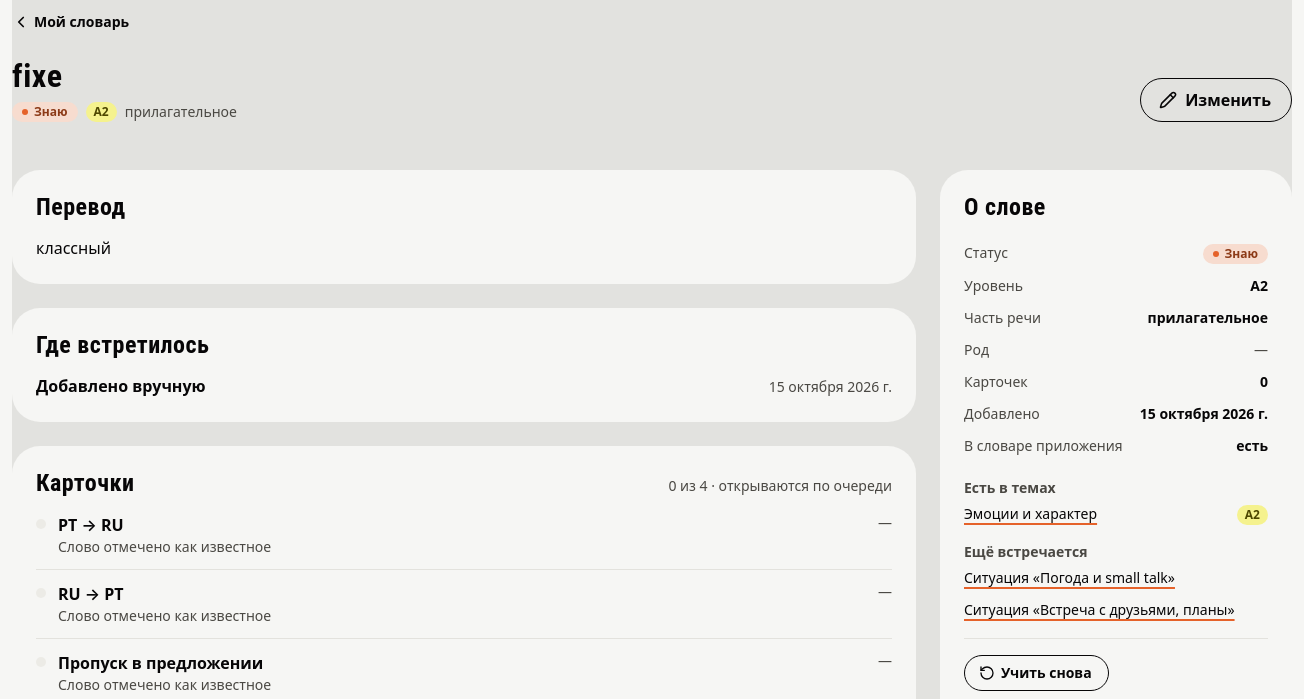
WordPage › known word: «Учить снова», modes disabled because of the mark
Check: the list item "PT → RU Слово отмечено как известное —" is shown, box [36,513,892,570]
Click the button "Учить снова": (1036, 673) [964,655,1109,691]
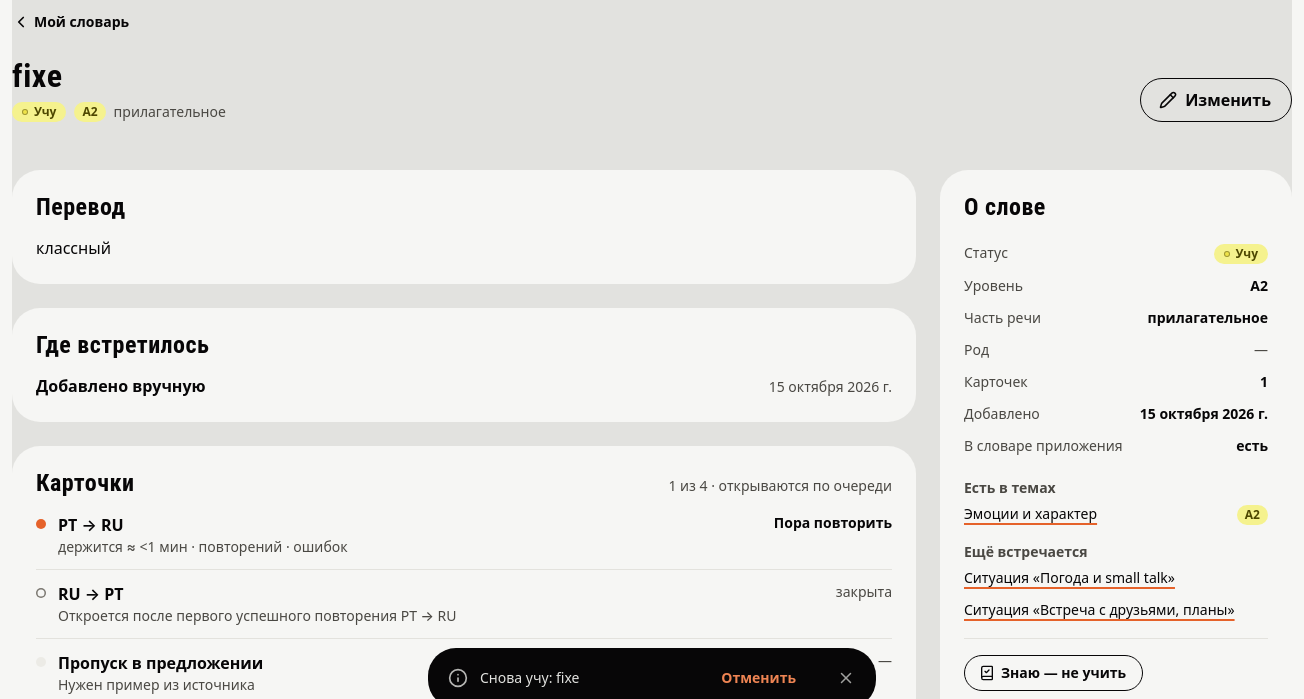
Check: the text "Снова учу: fixe" is shown, box [480,668,580,687]
Check: the button "Знаю — не учить" is shown, box [964,655,1143,691]
